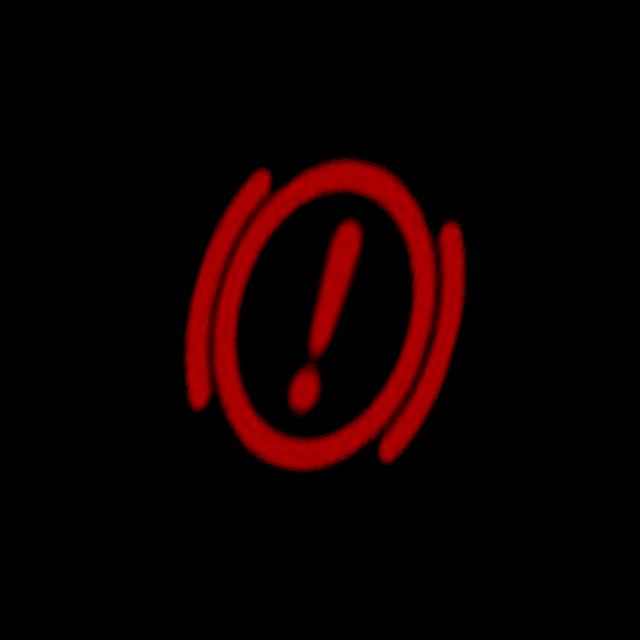kontrolka: (140, 111, 512, 525)
